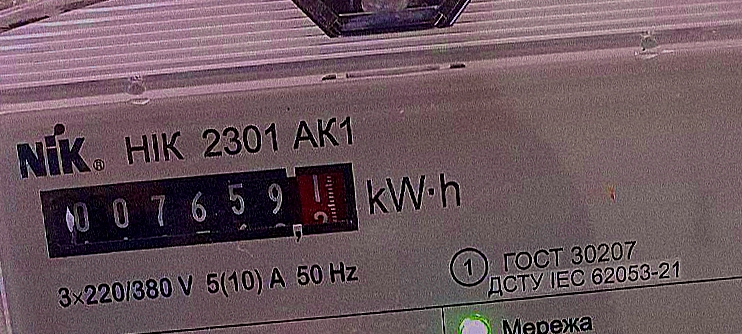0: (108, 193, 133, 232), (69, 196, 93, 236)
1: (307, 169, 325, 206)
5: (225, 179, 248, 218)
6: (186, 187, 210, 224)
7: (146, 190, 169, 229)
9: (263, 179, 287, 217)
screen: (30, 155, 369, 267)
